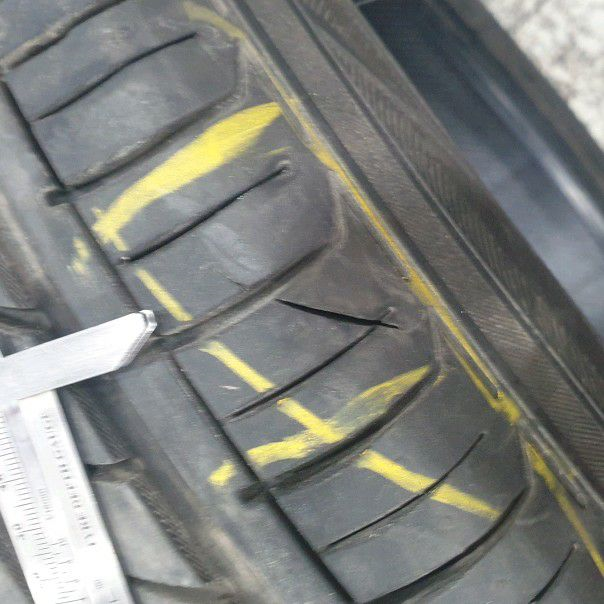tr: (258, 289, 412, 337)
